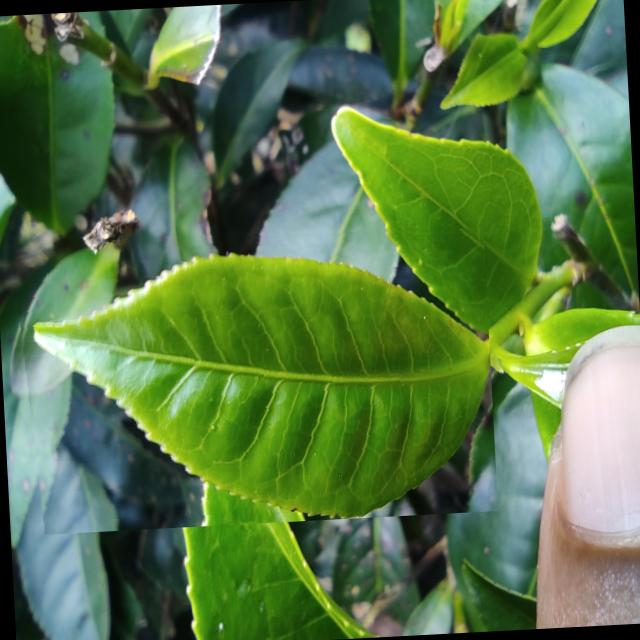Category B 2-4 days: (11, 220, 498, 536)
